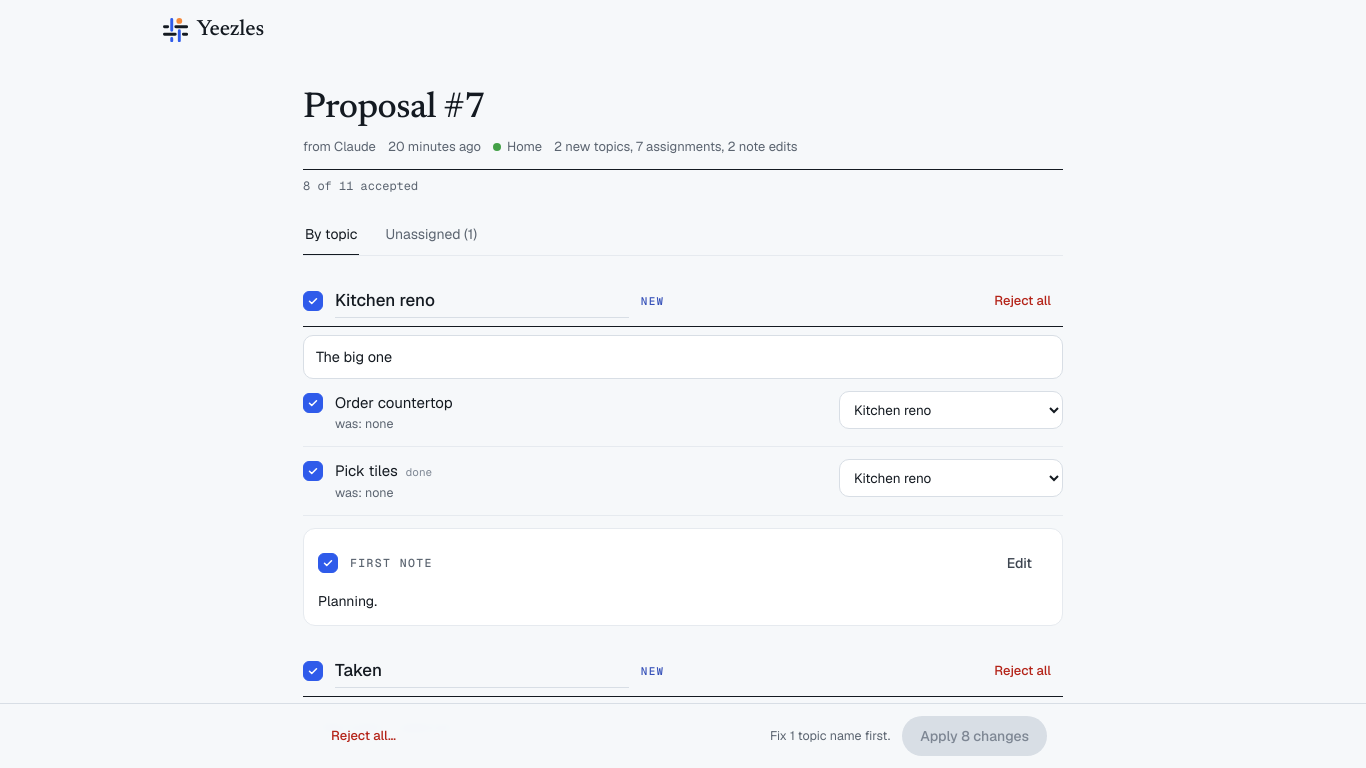
Test case: ProposalReview › renaming the taken topic to a free name clears the blocker and enables Apply
Replace the text in the 2nd field named "Topic name" with "Gate" at (482, 671), box x1=335 y1=654 x2=629 y2=688
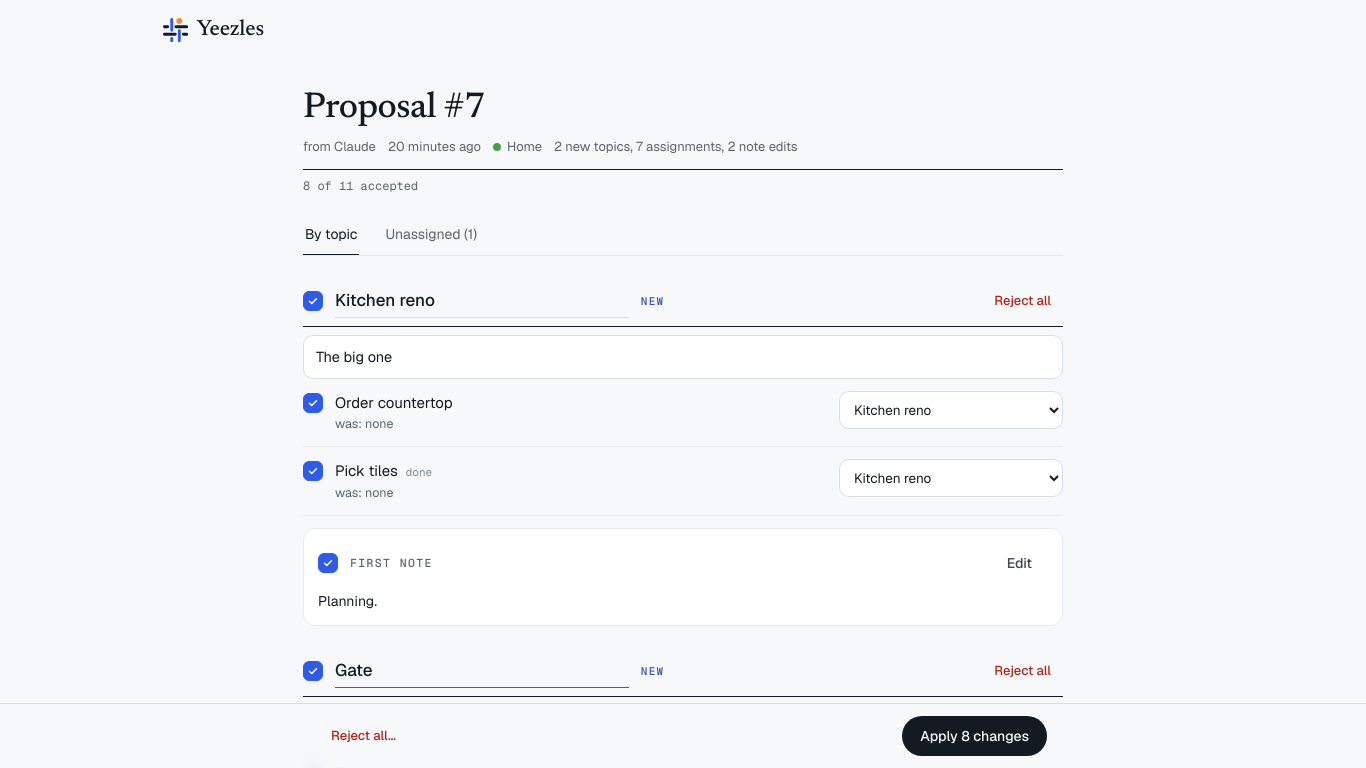
Now the text "Fix 1 topic name first." is gone
Now the button "Apply 8 changes" is enabled, box x1=902 y1=716 x2=1047 y2=756
